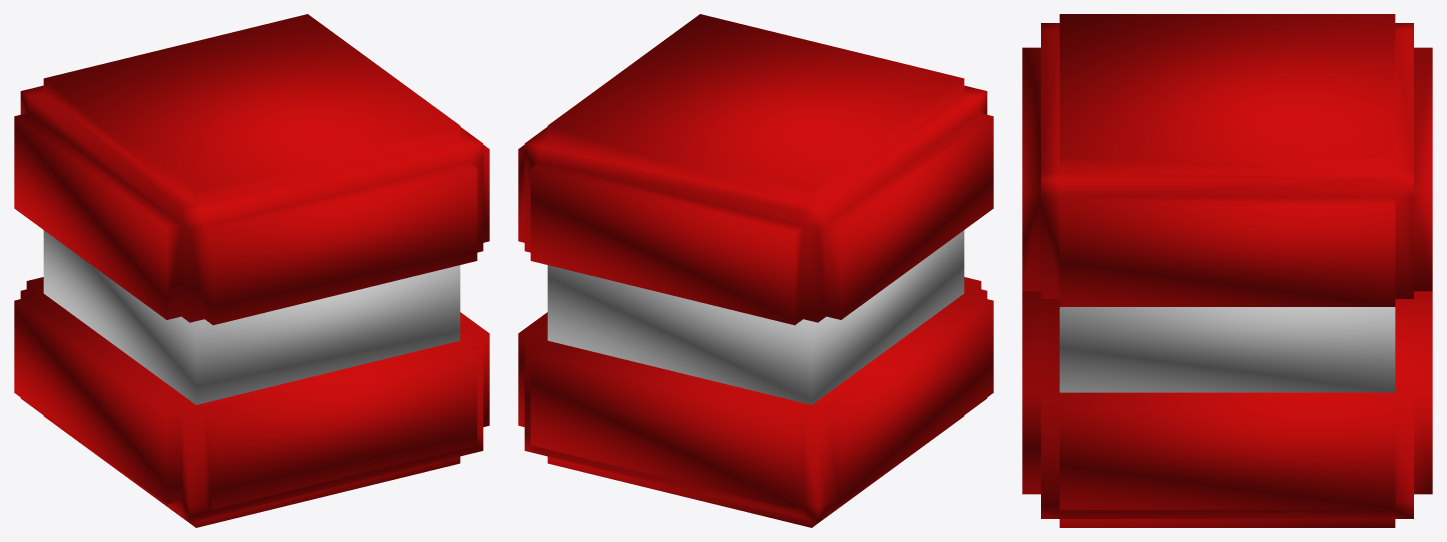
File: Crate.fbx
3 renders of one model, left to right at view 1: azimuth 30°, elevation 25°; view 2: azimuth 150°, elevation 25°; view 3: azimuth 270°, elevation 25°, orthographic. The views are drawn at different scales.
Visible parts, largest first — view 1: Mesh; view 2: Mesh; view 3: Mesh.
Boxes of the visible parts, left/top/right/bottom form: Mesh: left=14, top=14, right=489, bottom=527; Mesh: left=518, top=14, right=993, bottom=527; Mesh: left=1022, top=14, right=1432, bottom=527.
Bounding box in the file's own units: 2200 × 2200 × 2200.
